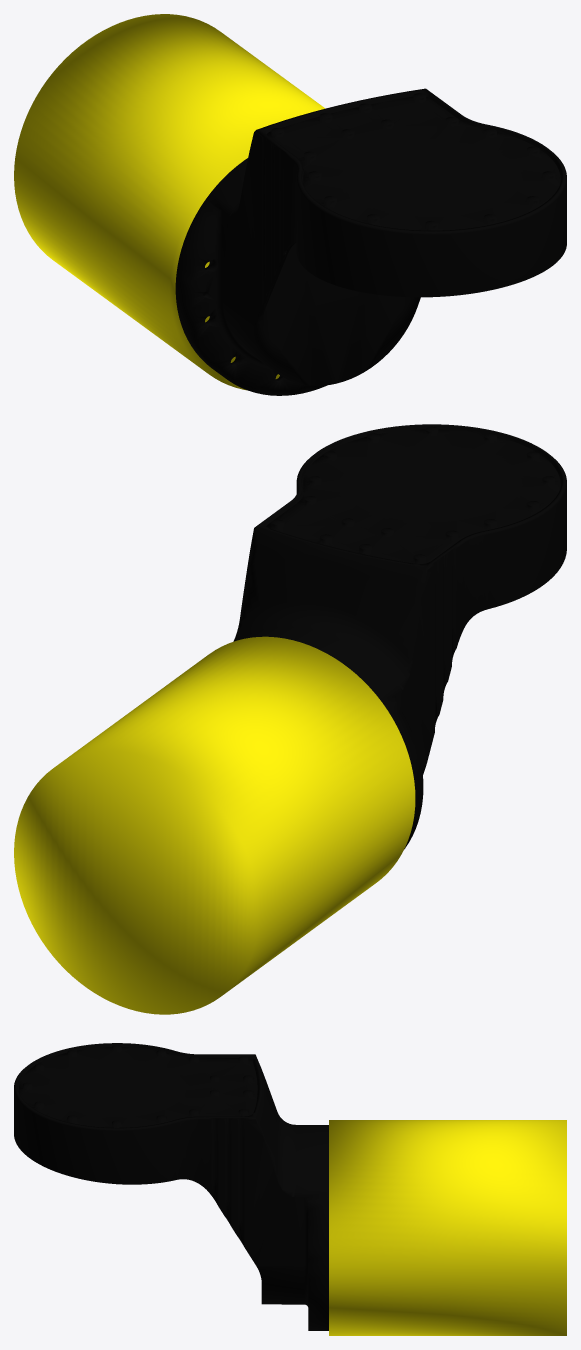
The picture shows the model from 3 angles, top to bottom: view 1: azimuth 30°, elevation 25°; view 2: azimuth 150°, elevation 25°; view 3: azimuth 270°, elevation 25°; orthographic projection. The views are drawn at different scales.
Visible parts, largest first — view 1: transform1; view 2: transform1; view 3: transform1.
Boxes of the visible parts, box(x1,y1,x2,y2) form: transform1: box(14, 14, 566, 395); transform1: box(14, 424, 566, 1014); transform1: box(14, 1043, 566, 1335).
Size of the model in its own units: 0.109 by 0.1342 by 0.279.
1 material, 1 textured.
